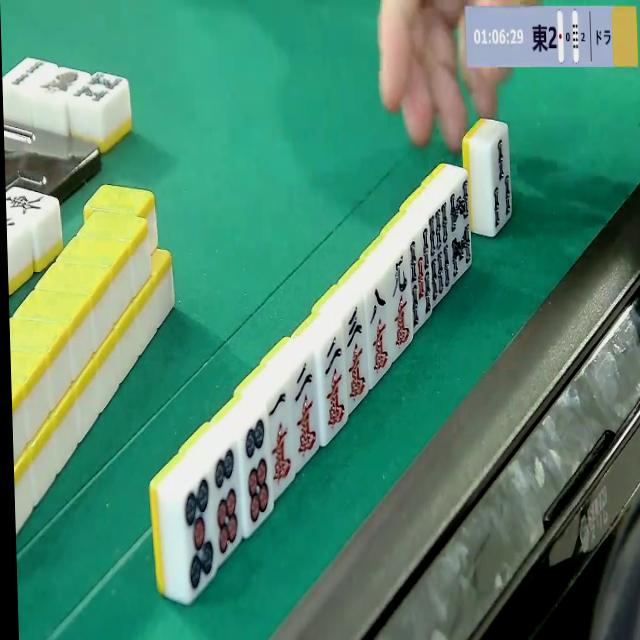m1: (268, 387, 299, 492)
m2: (292, 358, 322, 462), (322, 331, 350, 437)
m3: (344, 303, 371, 406)
m8: (366, 280, 393, 378)
m9: (391, 248, 412, 352)
s3: (489, 130, 515, 234)
s5: (407, 234, 431, 330)
s6: (426, 204, 452, 307)
s8: (449, 176, 473, 282)
t5: (182, 475, 218, 597)
t6: (212, 443, 246, 563), (242, 414, 274, 532)
